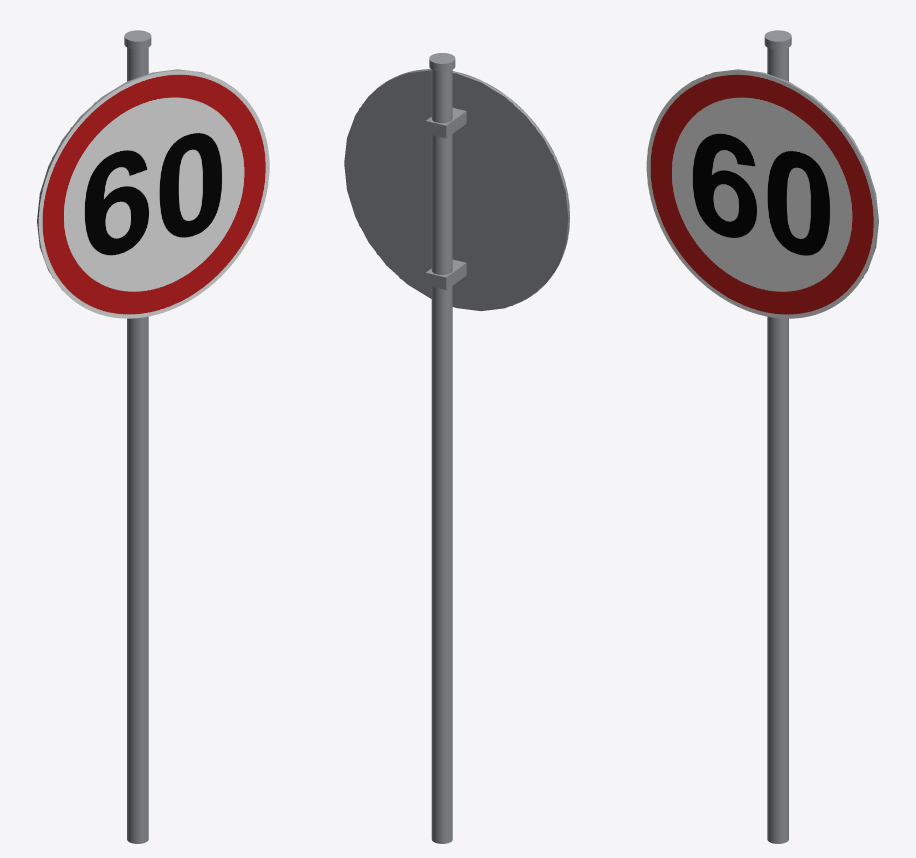
The model's file is sign_speed60kph.dae.
3 renders of one model, left to right at view 1: azimuth 30°, elevation 25°; view 2: azimuth 150°, elevation 25°; view 3: azimuth 330°, elevation 25°, orthographic. The views are drawn at different scales.
Parts seen in each view (by area): view 1: sign128, sign48, sign4; view 2: sign128, sign48, sign4; view 3: sign128, sign48, sign4.
Boxes of the visible parts, x1,y1,x2,y2 form: sign128: (37,30,269,843); sign48: (52,30,210,843); sign4: (70,30,150,843); sign128: (344,53,569,843); sign48: (344,53,567,843); sign4: (344,53,567,843); sign128: (646,30,878,843); sign48: (705,30,863,843); sign4: (765,30,845,843).
Bounding box in the file's own units: 0.9 × 0.1275 × 2.47.
Materials: 2 (1 with a texture image).
